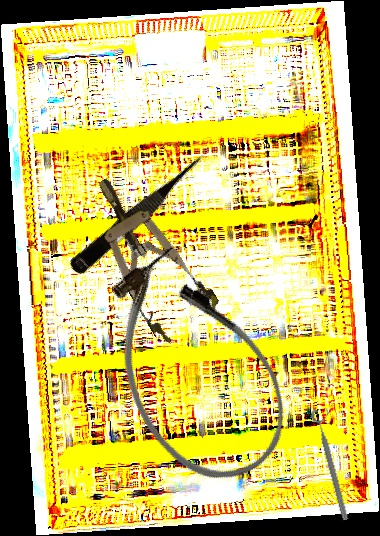Cannula: (78, 232, 310, 505)
Fixation Ring: (309, 405, 358, 522)
Micro Scissor: (66, 146, 217, 281)
Speculum: (72, 160, 227, 353)
